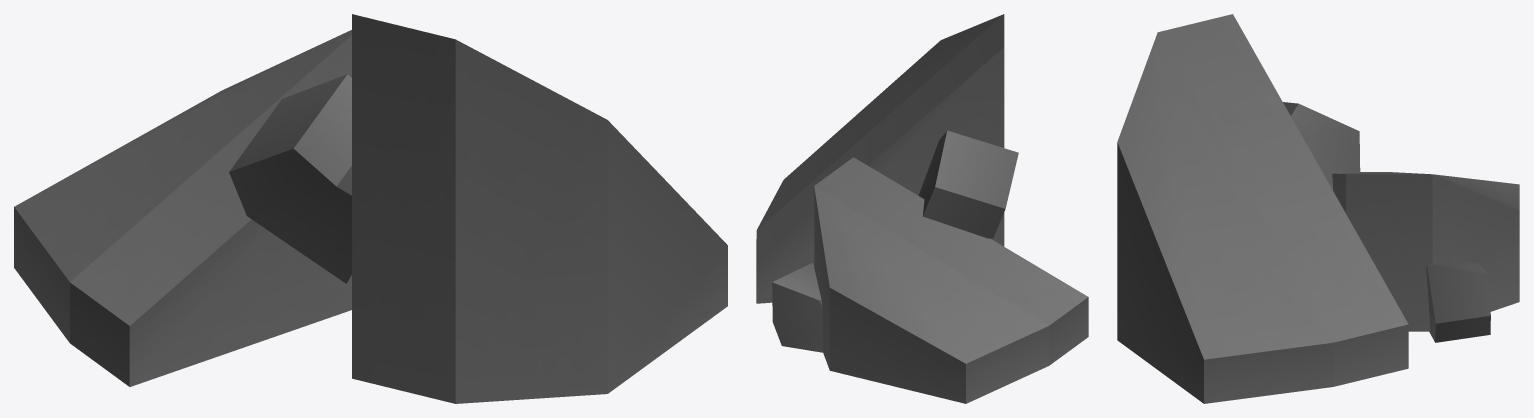
File: pack02_rocks_19.fbx
3 renders of one model, left to right at view 1: azimuth 30°, elevation 25°; view 2: azimuth 150°, elevation 25°; view 3: azimuth 270°, elevation 25°, orthographic. The views are drawn at different scales.
Visible parts, largest first — view 1: Rock Type5 03 mesh; view 2: Rock Type5 03 mesh; view 3: Rock Type5 03 mesh.
Part boxes in pixels (x1=…): Rock Type5 03 mesh: x1=14, y1=14, x2=727, y2=403; Rock Type5 03 mesh: x1=756, y1=14, x2=1088, y2=403; Rock Type5 03 mesh: x1=1117, y1=14, x2=1519, y2=403.
Size of the model in its own units: 217 by 144 by 196.
1 material, 1 textured.
